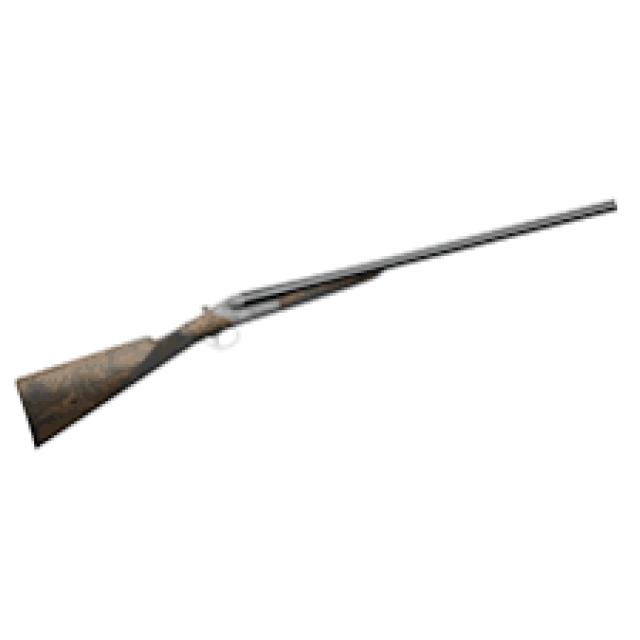rifle: (11, 198, 628, 452)
